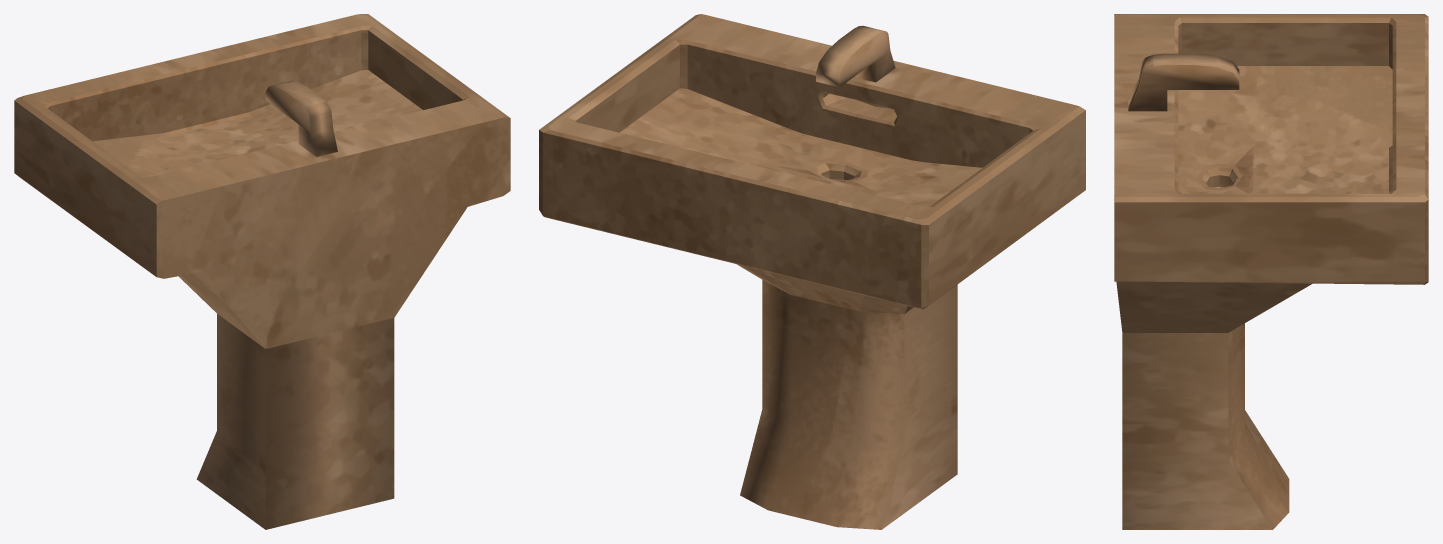
The model's file is sink.fbx.
3 views of the same model, side by side, from view 1: azimuth 30°, elevation 25°; view 2: azimuth 150°, elevation 25°; view 3: azimuth 270°, elevation 25° (orthographic). The views are drawn at different scales.
Parts seen in each view (by area): view 1: Cube.031; view 2: Cube.031; view 3: Cube.031.
Part boxes in pixels (x1,y1,x2,y2): Cube.031: (14,14,510,529); Cube.031: (539,14,1085,529); Cube.031: (1114,14,1428,529).
Bounding box in the file's own units: 2.84 × 3.07 × 2.
